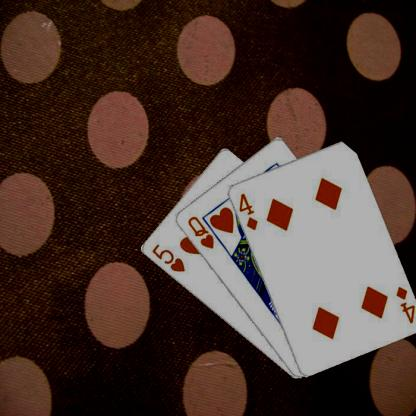4D: (393, 284, 416, 324), (236, 190, 258, 231)
5H: (149, 242, 186, 274)
QH: (184, 214, 215, 250)
